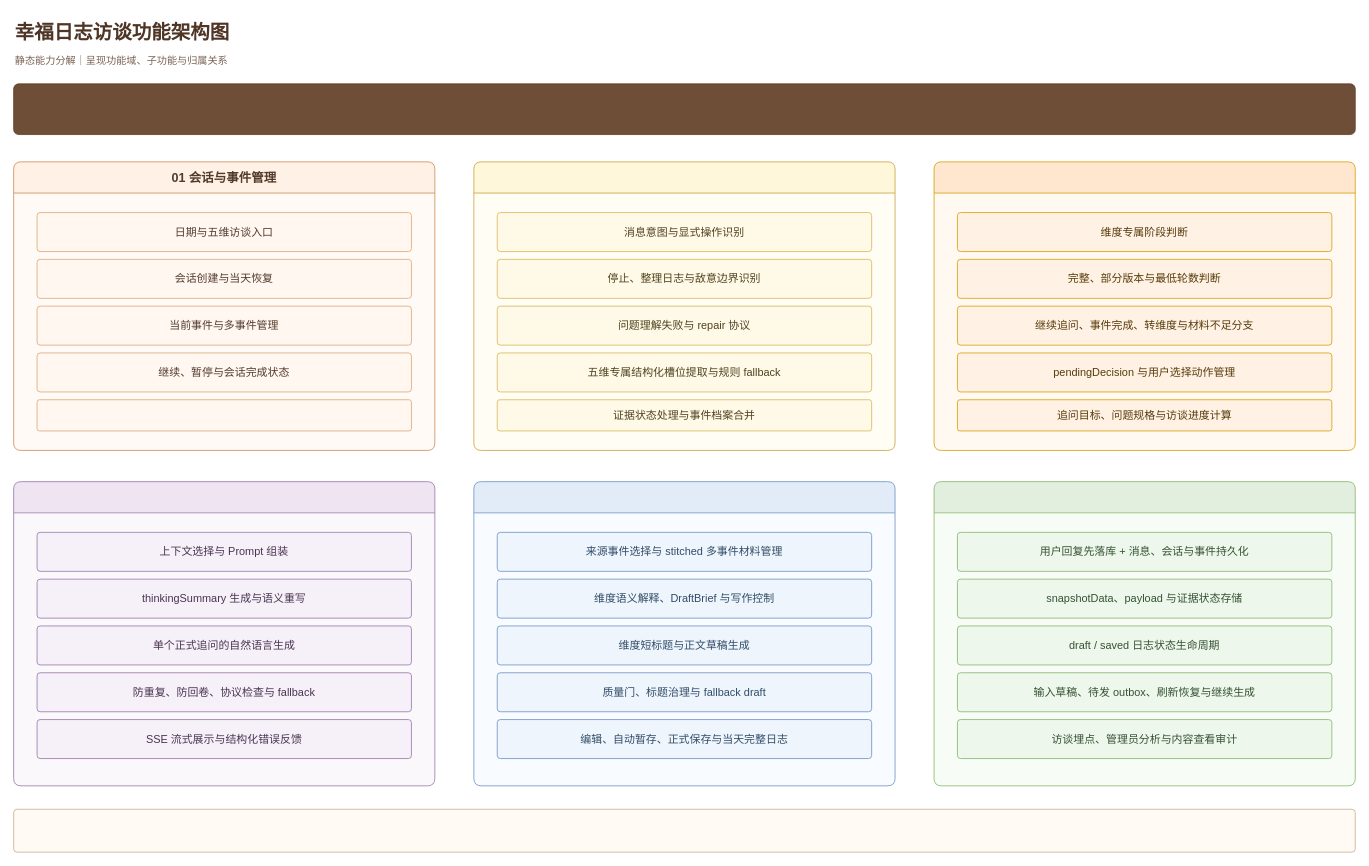
The diagram is 1369 pixels wide and 866 high, and some of its shapes have lost their labels. Here are the shapes that lost their labels. From the top down, the box of each, then its label:
(13, 83, 1355, 135): AI 幸福日志访谈功能
(473, 161, 895, 450): 02 用户表达理解
(933, 161, 1355, 450): 03 访谈决策控制
(36, 399, 411, 431): 按日期、维度与待处理回复恢复访谈现场
(13, 481, 435, 786): 04 对话表达与输出控制
(473, 481, 895, 786): 05 日志成果管理
(933, 481, 1355, 786): 06 状态、数据与运营支撑
(13, 808, 1355, 852): 阅读方式：每个色块代表一个一级功能域；色块内部是该功能域包含的二级能力。图中不表达调用顺序。
